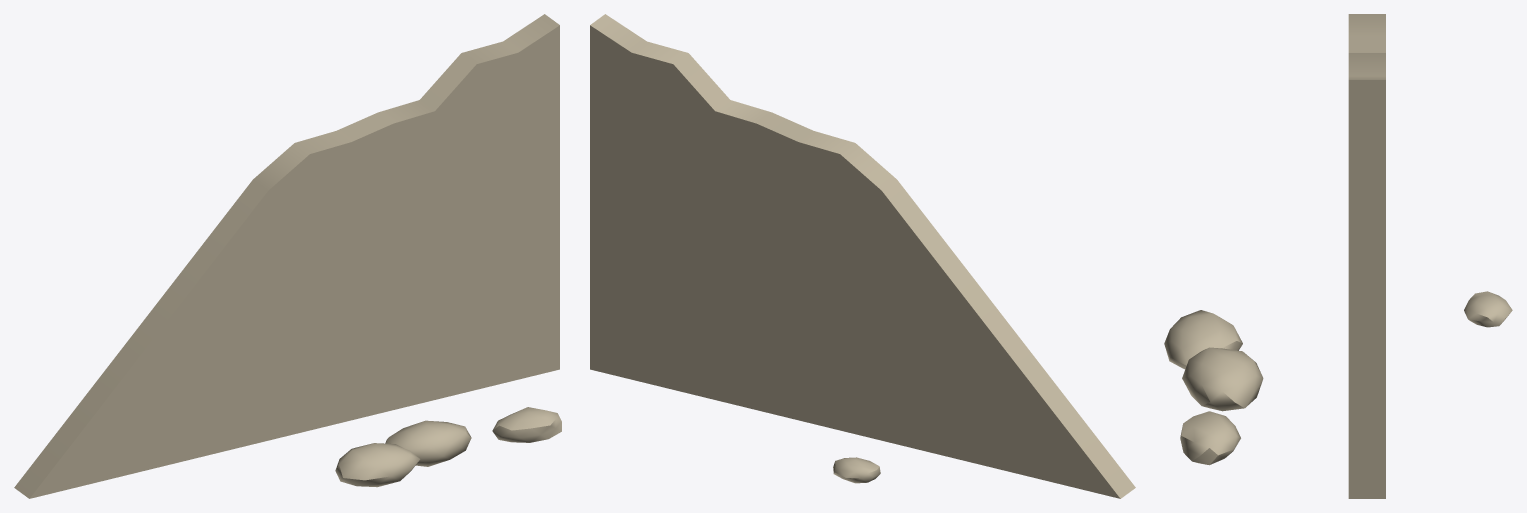
File: wand_dreieck_kaputt.glb
3 views of the same model, side by side, from view 1: azimuth 30°, elevation 25°; view 2: azimuth 150°, elevation 25°; view 3: azimuth 270°, elevation 25° (orthographic). The views are drawn at different scales.
Parts seen in each view (by area): view 1: wand_dreieck_kaputt; view 2: wand_dreieck_kaputt; view 3: wand_dreieck_kaputt.
Boxes of the visible parts, <box> form: wand_dreieck_kaputt: <box>14,14,561,498</box>; wand_dreieck_kaputt: <box>590,14,1135,498</box>; wand_dreieck_kaputt: <box>1164,14,1512,498</box>.
Size of the model in its own units: 2 by 1.27 by 0.9347.
